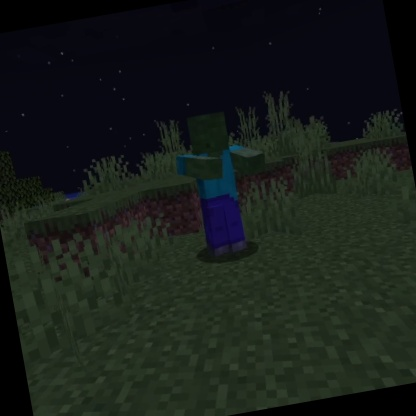zombie: (163, 100, 285, 268)
